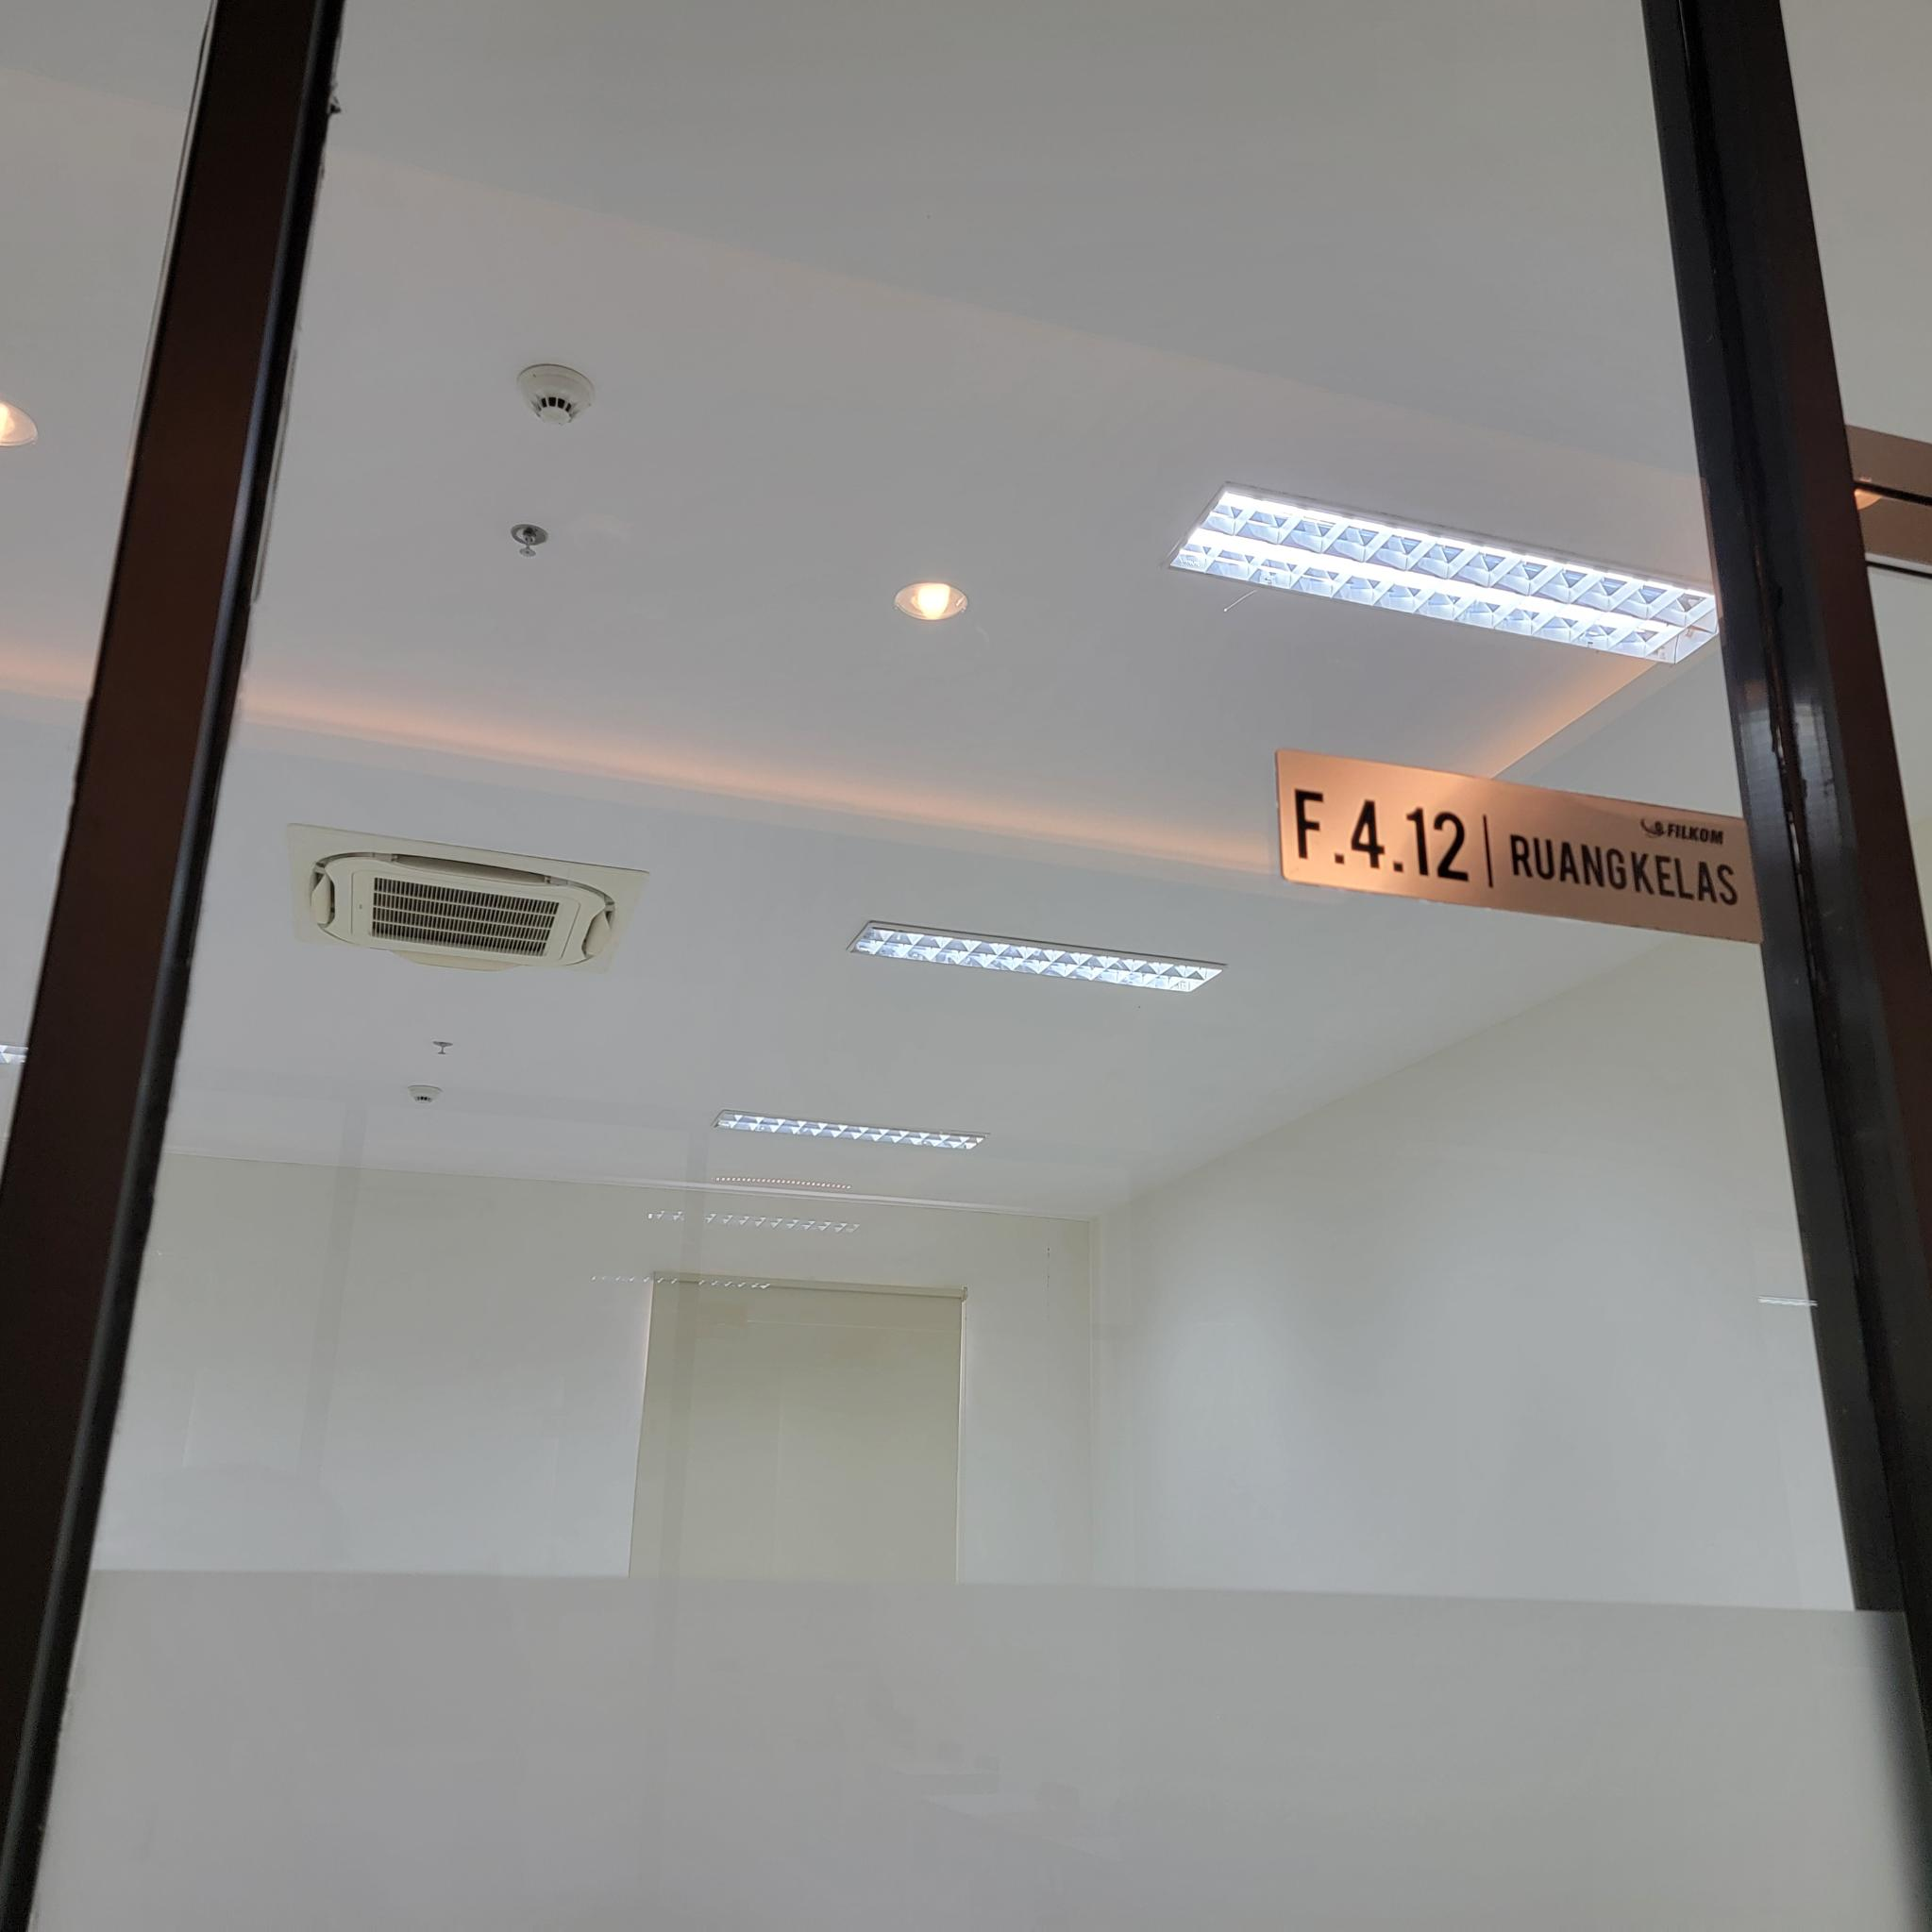plate: (1277, 747, 1764, 945)
